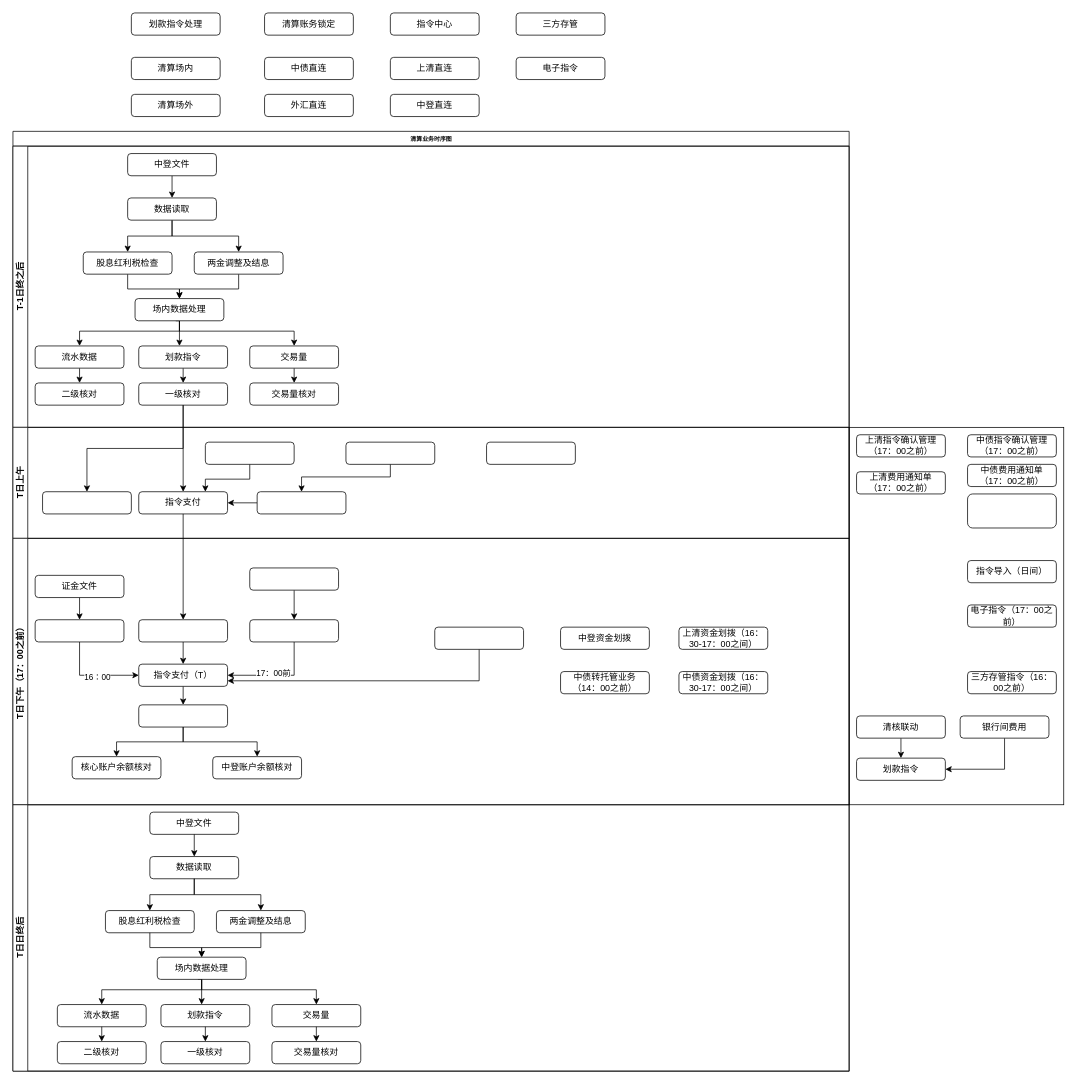
Some shapes in this 1077 by 1084 pixel diagram are drawn without their labels. The centre of each missing label's shape, as x and y in pixels:
T+0业务: (183,630)
中登RTGS业务（9：00--16：30之前）: (479,637)
券商清算资金流水: (301,502)
外汇交易缴费通知单 （17：00之前）: (1011,510)
最高额度申报: (530,452)
核算流水: (390,452)
港股通提前应付流水: (294,630)
管理人文件: (294,578)
网下新股: (249,452)
股息红利税申报: (86,502)
账务锁定: (183,715)
转融通流水: (79,630)
